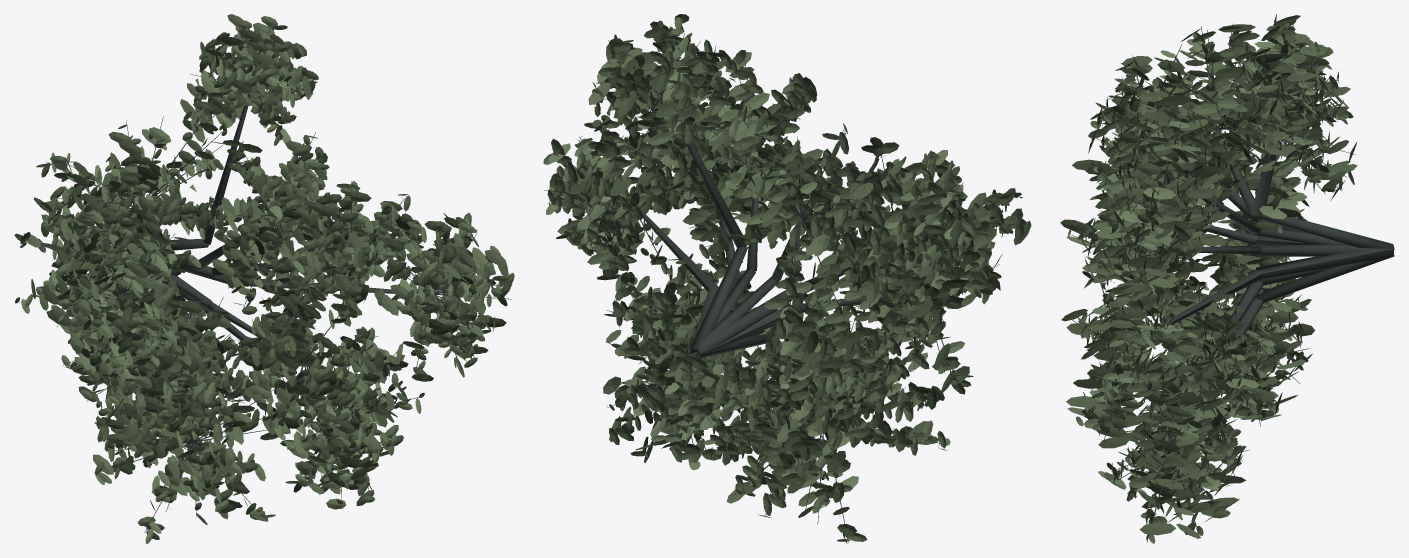
The model's file is tree_m12.obj.
3 renders of one model, left to right at view 1: azimuth 30°, elevation 25°; view 2: azimuth 150°, elevation 25°; view 3: azimuth 270°, elevation 25°, orthographic. The views are drawn at different scales.
Size of the model in its own units: 1.71 by 1.75 by 1.04.
1 material, 1 textured.
